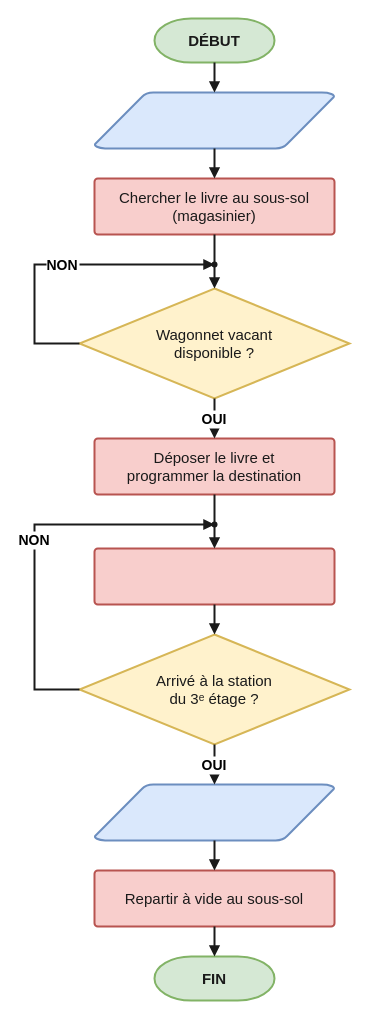
Image size: 367x1018. Some labels were removed from this diagram. Each missing label, with the box of its shape:
Entrée : le lecteur commande un livre: (93, 91, 335, 149)
Rouler : tunnel puis montée verticale: (93, 547, 335, 605)
Sortie : le livre est remis au lecteur: (93, 783, 335, 841)
